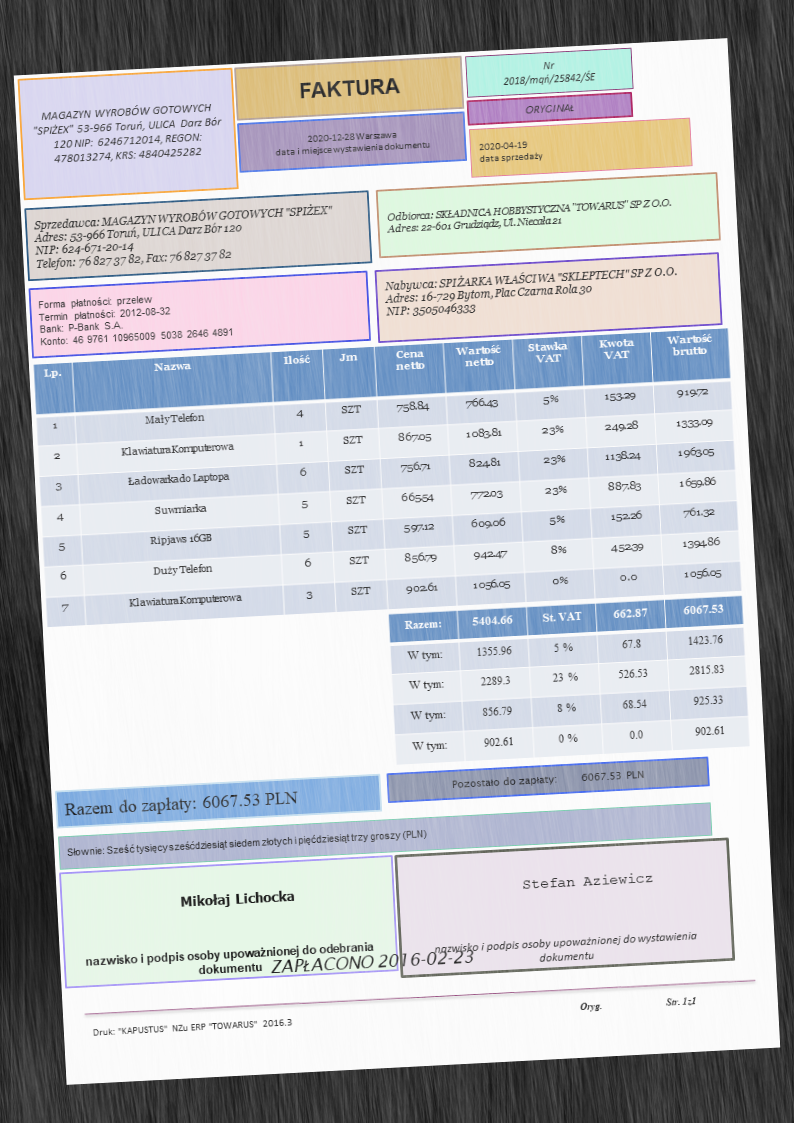Table: (31, 326, 744, 630), (386, 594, 750, 767)
TextBox: (31, 198, 338, 275), (382, 261, 682, 321), (30, 98, 225, 168), (65, 824, 428, 860), (383, 193, 673, 236), (35, 287, 236, 349), (82, 941, 374, 983), (433, 926, 700, 970), (61, 786, 301, 822), (270, 945, 480, 980), (271, 125, 433, 161), (89, 1013, 294, 1040), (449, 767, 646, 793), (177, 884, 298, 911), (500, 57, 596, 91), (520, 869, 656, 893), (296, 75, 403, 102), (577, 992, 700, 1013), (475, 135, 545, 170), (523, 99, 576, 118)
